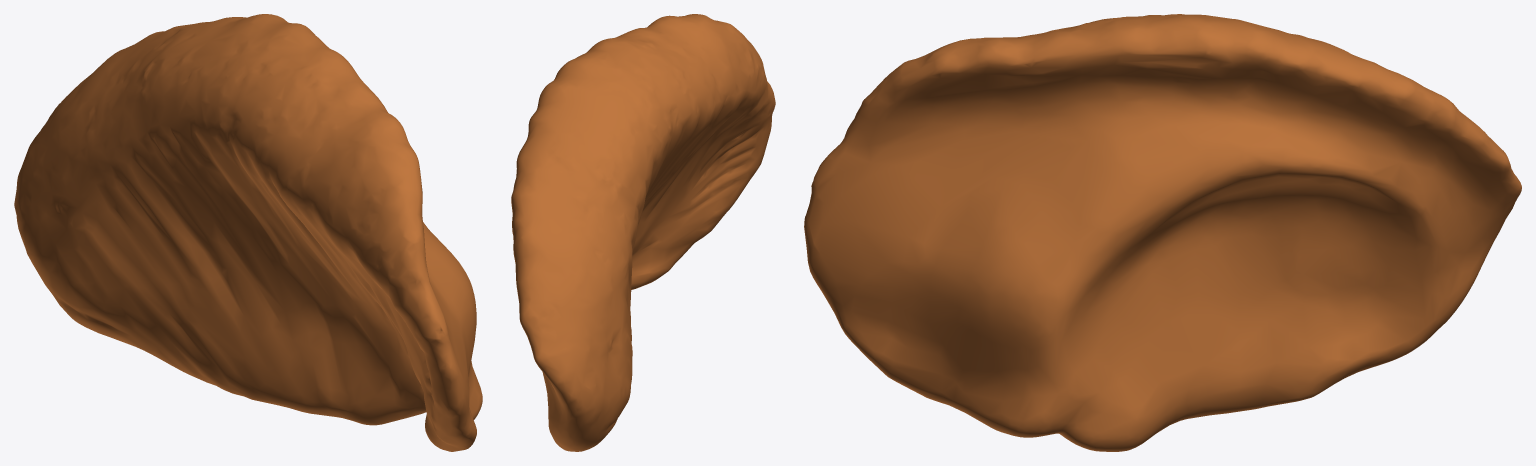
The model's file is Internal_capsule_right.glb.
3 views of the same model, side by side, from view 1: azimuth 30°, elevation 25°; view 2: azimuth 150°, elevation 25°; view 3: azimuth 270°, elevation 25° (orthographic). The views are drawn at different scales.
Parts seen in each view (by area): view 1: Internal_capsule.r_grp1.080; view 2: Internal_capsule.r_grp1.080; view 3: Internal_capsule.r_grp1.080.
Boxes of the visible parts, <box> form: Internal_capsule.r_grp1.080: <box>14,14,482,451</box>; Internal_capsule.r_grp1.080: <box>511,14,775,451</box>; Internal_capsule.r_grp1.080: <box>804,14,1521,451</box>.
Size of the model in its own units: 0.0222 by 0.0323 by 0.0526.
